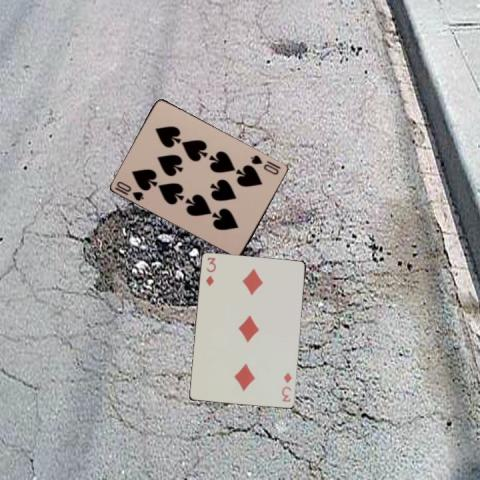10s: (248, 152, 281, 176), (114, 178, 145, 202)
3d: (279, 370, 293, 403), (204, 255, 218, 287)
